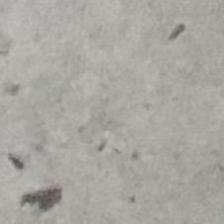Non_Crack: (40, 44, 208, 212)
